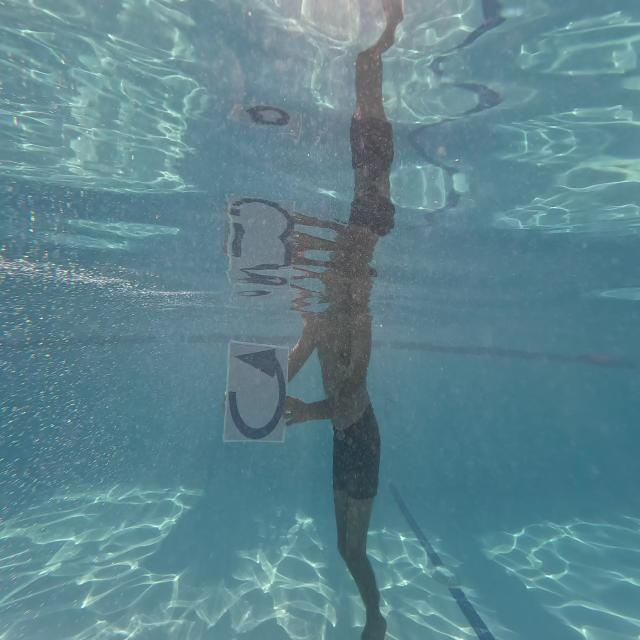blue_side: (219, 332, 293, 449)
